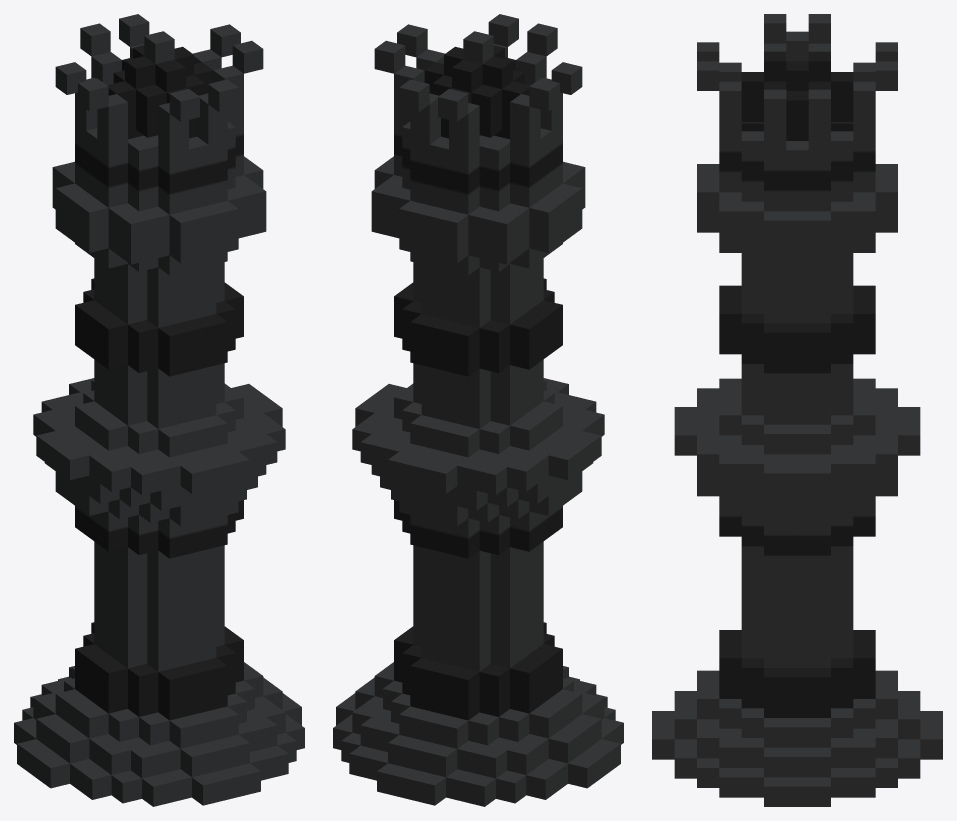
File: blackQ.dae
3 renders of one model, left to right at view 1: azimuth 30°, elevation 25°; view 2: azimuth 150°, elevation 25°; view 3: azimuth 270°, elevation 25°, orthographic.
Parts seen in each view (by area): view 1: blackQ; view 2: blackQ; view 3: blackQ.
Part boxes in pixels (bbox=[...]): blackQ: bbox=[14, 14, 304, 806]; blackQ: bbox=[333, 14, 623, 806]; blackQ: bbox=[652, 14, 942, 806].
Bounding box in the file's own units: 13 × 35 × 13.
Materials: 1 (1 with a texture image).
